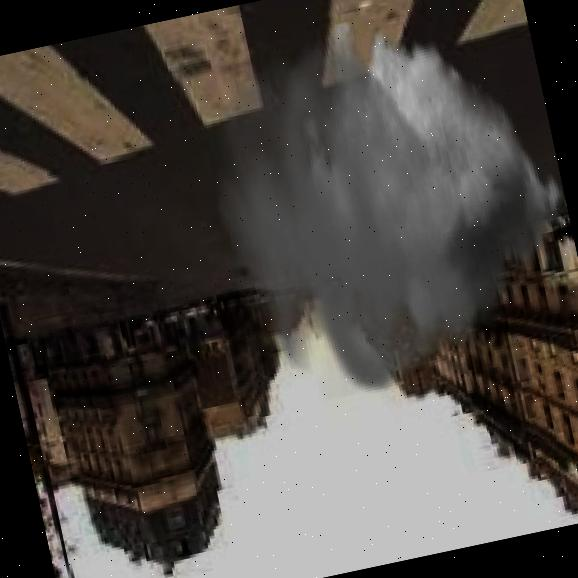smoke: (185, 0, 578, 422)
